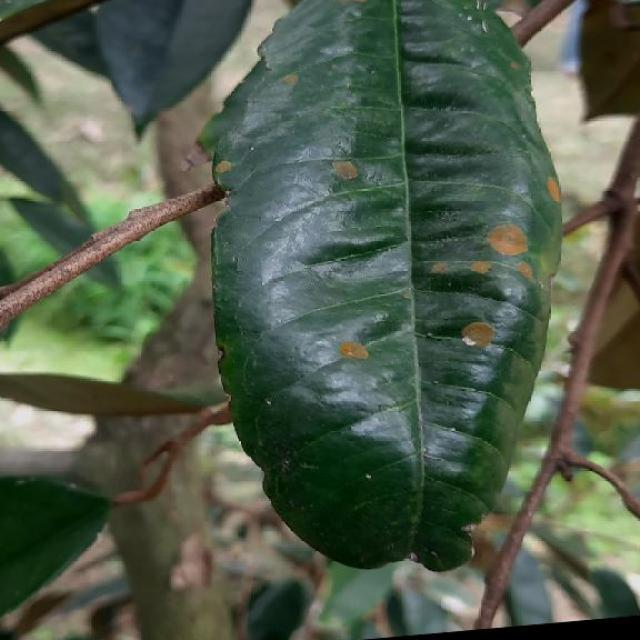Algal Leaf Spot: (186, 0, 594, 591)
